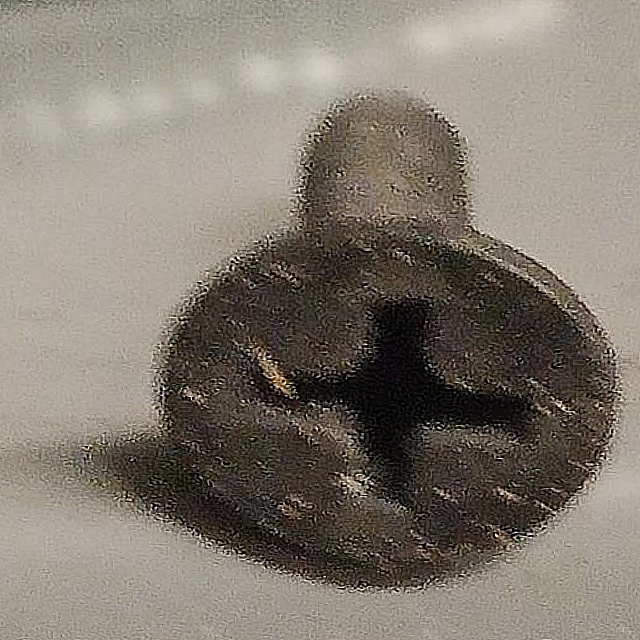phillips: (147, 211, 628, 584)
